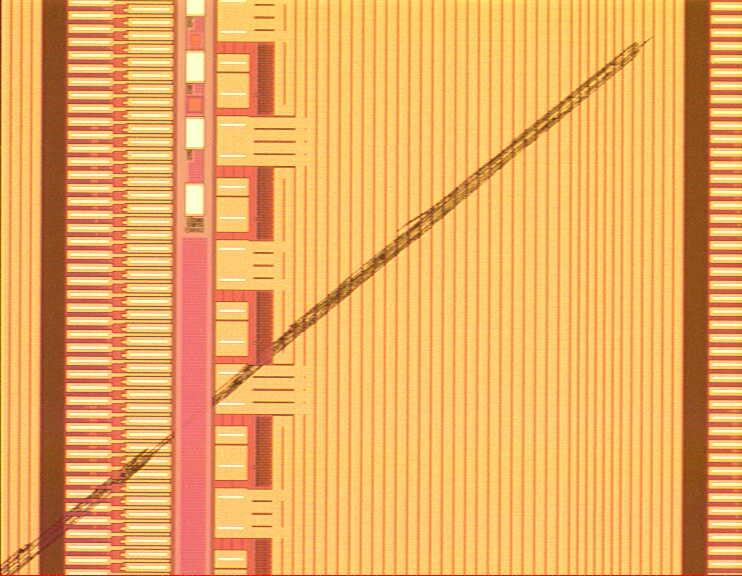SCRATCH: (1, 28, 663, 576)
